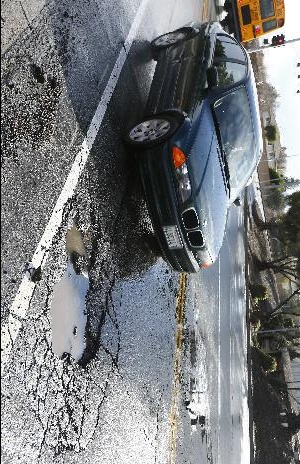pothole: (49, 209, 107, 367)
